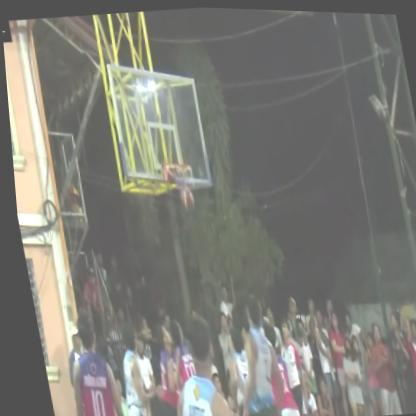basketball: (174, 184, 194, 213)
rim: (160, 154, 196, 205)
